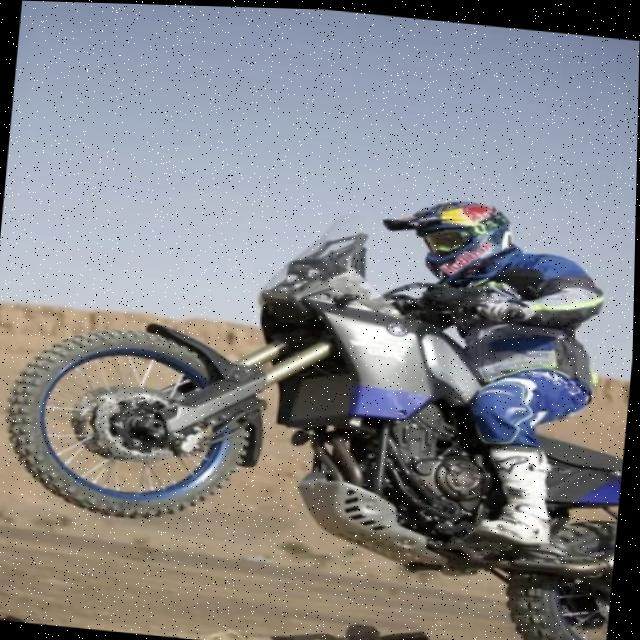illegal_helmet: (374, 184, 523, 291)
